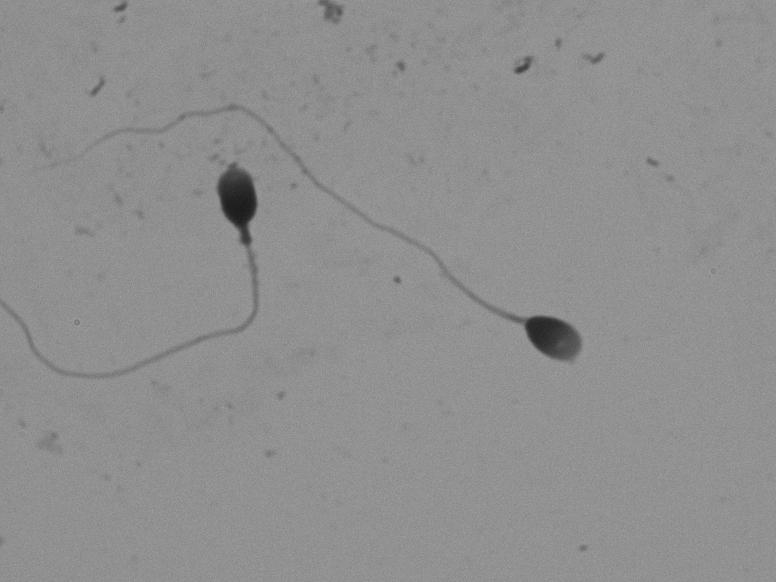Abnormal: (17, 162, 278, 399)
Normal: (295, 37, 662, 387)
